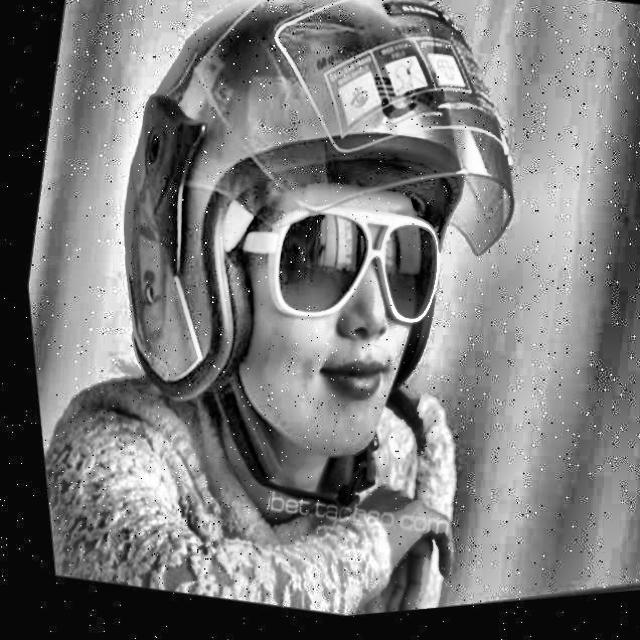Helmet: (28, 0, 585, 570)
